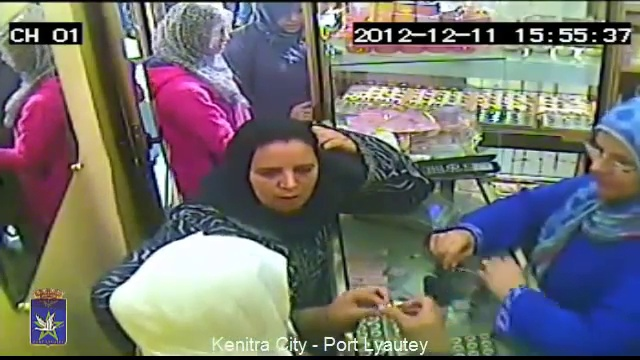face: (247, 146, 322, 211), (589, 141, 636, 199), (265, 1, 307, 36)
